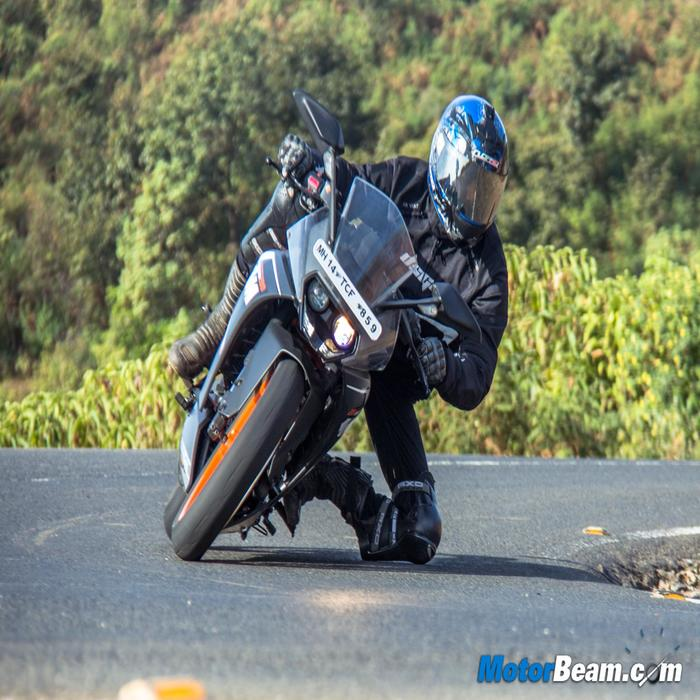h: (424, 92, 514, 251)
n: (311, 237, 384, 343)
